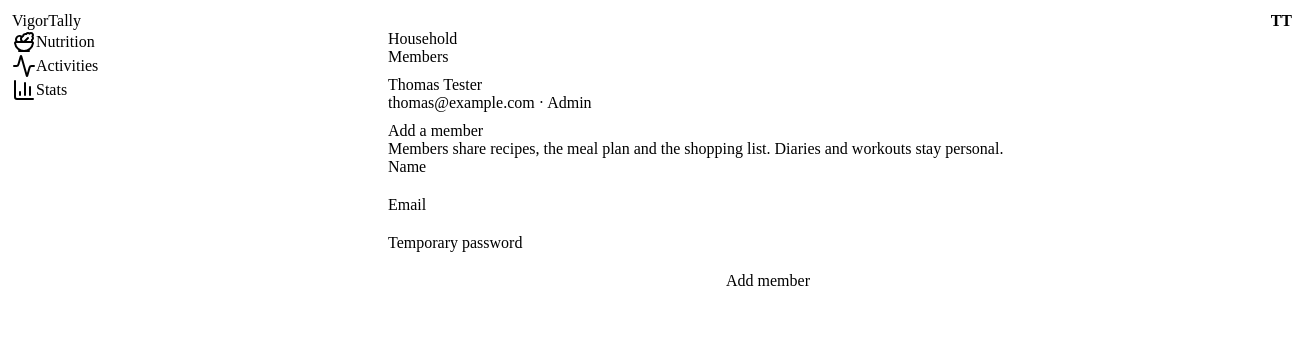
Test: settings pages › household lists members and lets admins add one
Expected: the text "Thomas Tester" is shown, [388,76,482,93]
Type "Partner" into the field labelled "Name" at {"x": 768, "y": 186}, box [388,176,1148,196]
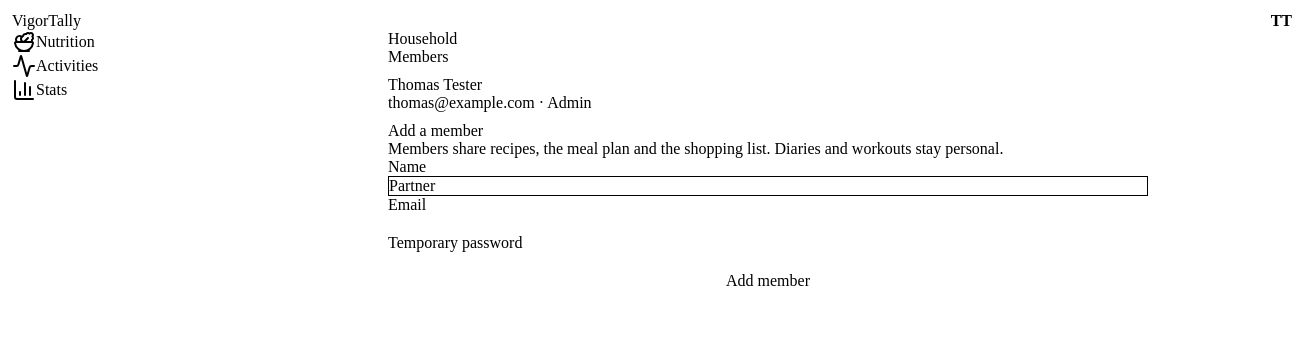
Type "partner@example.com" into the field labelled "Email" at {"x": 768, "y": 224}, box [388,214,1148,234]
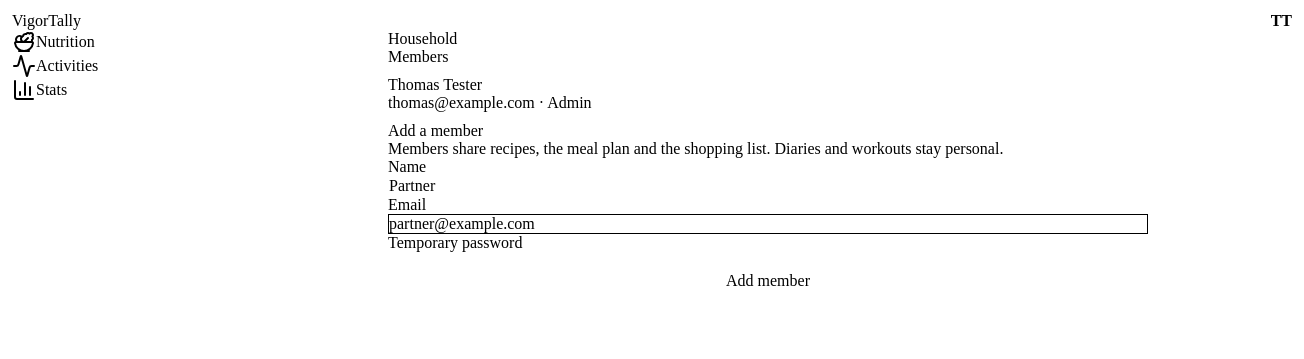
Type "temporary1" into the password field labelled "Temporary password" at {"x": 768, "y": 262}, box [388,252,1148,272]
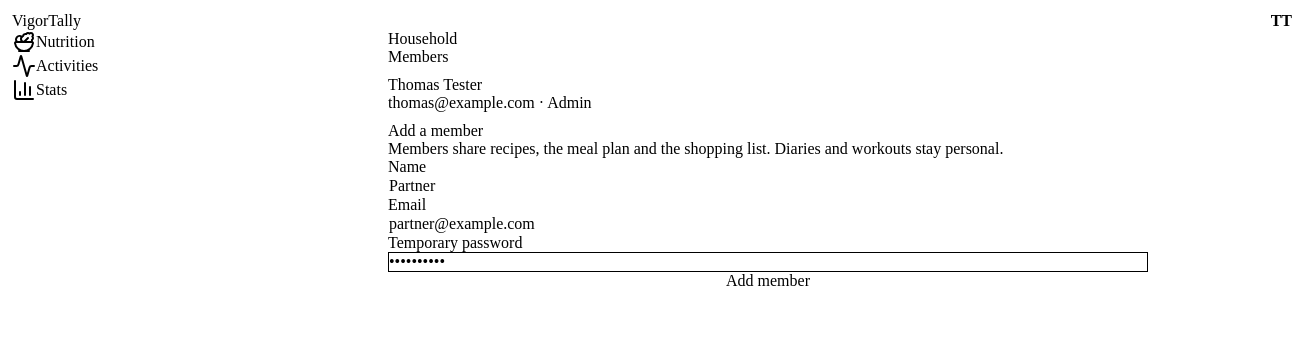
Click the button "Add member" at {"x": 768, "y": 281}, box [388,272,1148,290]
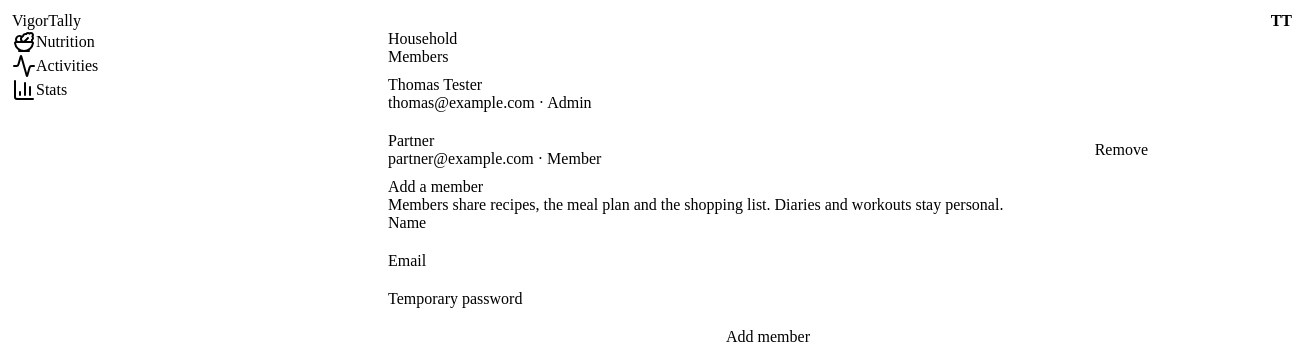
Now the text "Partner" is shown, box [388,132,434,149]
